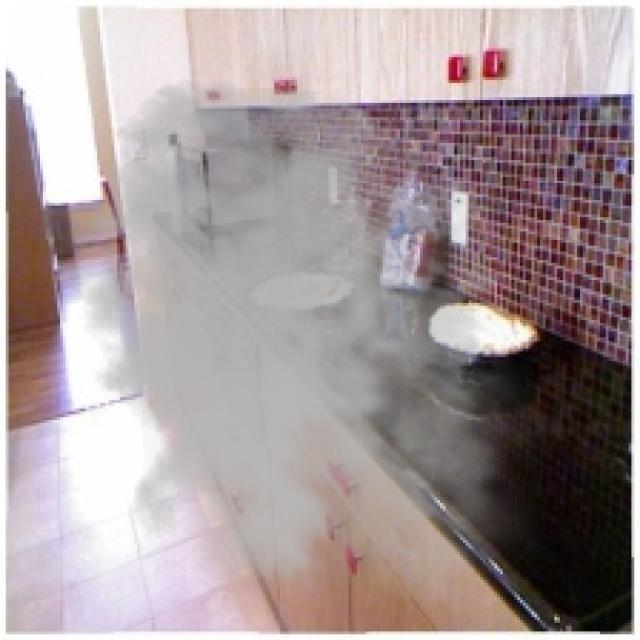Smoke: (48, 77, 563, 632)
